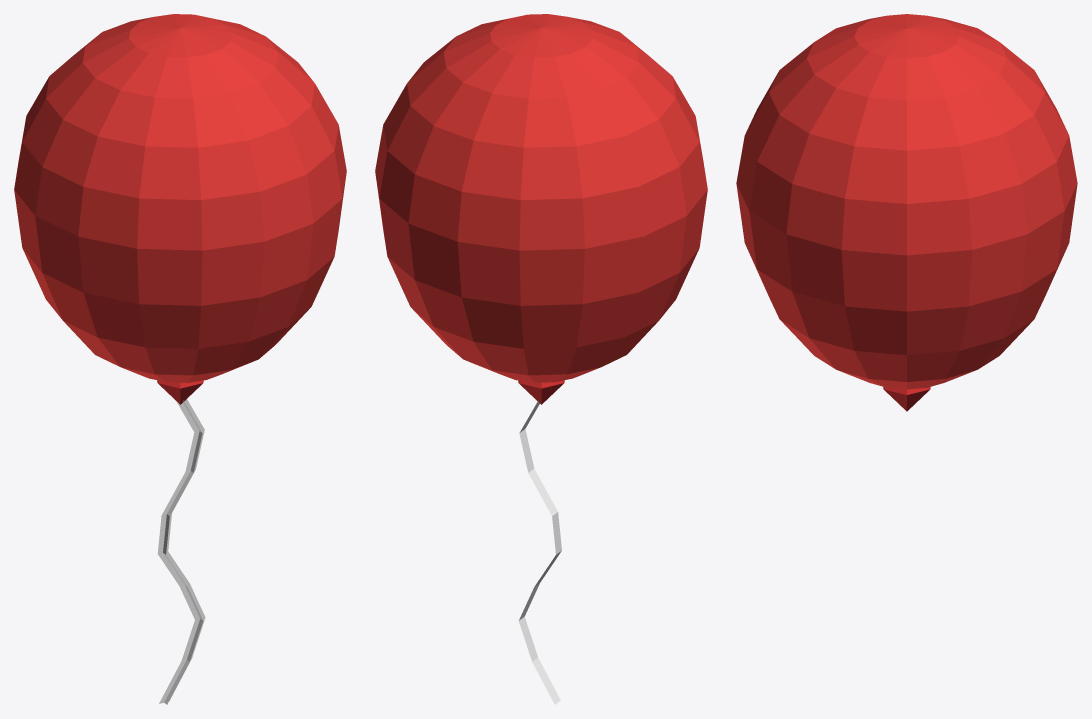
Rendered from ballong.glb.
3 views of the same model, side by side, from view 1: azimuth 30°, elevation 25°; view 2: azimuth 150°, elevation 25°; view 3: azimuth 270°, elevation 25° (orthographic).
Parts seen in each view (by area): view 1: ballong; view 2: ballong; view 3: ballong.
Part boxes in pixels (left/top/right/bottom): ballong: left=14, top=14, right=346, bottom=704; ballong: left=375, top=14, right=707, bottom=704; ballong: left=736, top=14, right=1077, bottom=411.
Bounding box in the file's own units: 0.44 × 0.97 × 0.44.
